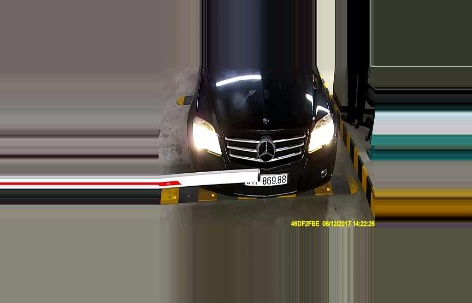plate: (245, 171, 288, 186)
